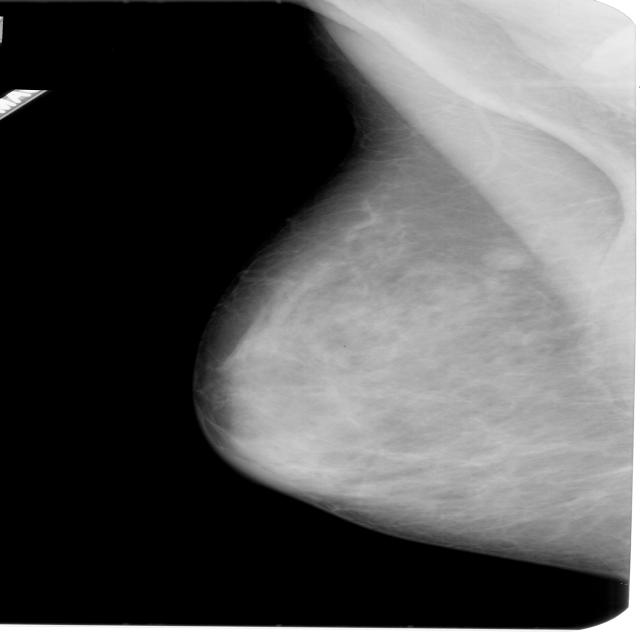normal: (193, 59, 640, 558)
